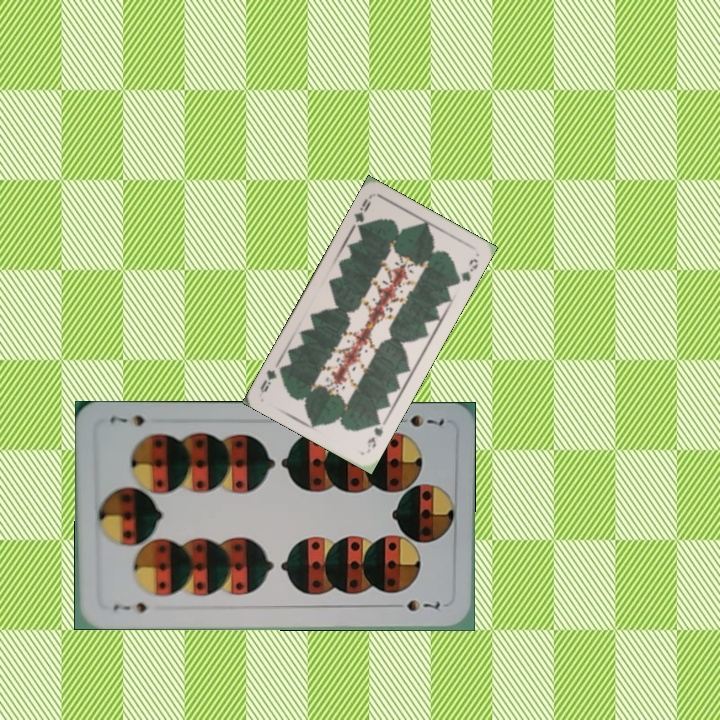G9: (363, 414, 389, 455), (348, 193, 374, 233)
S7: (390, 411, 447, 430), (109, 598, 149, 615)
